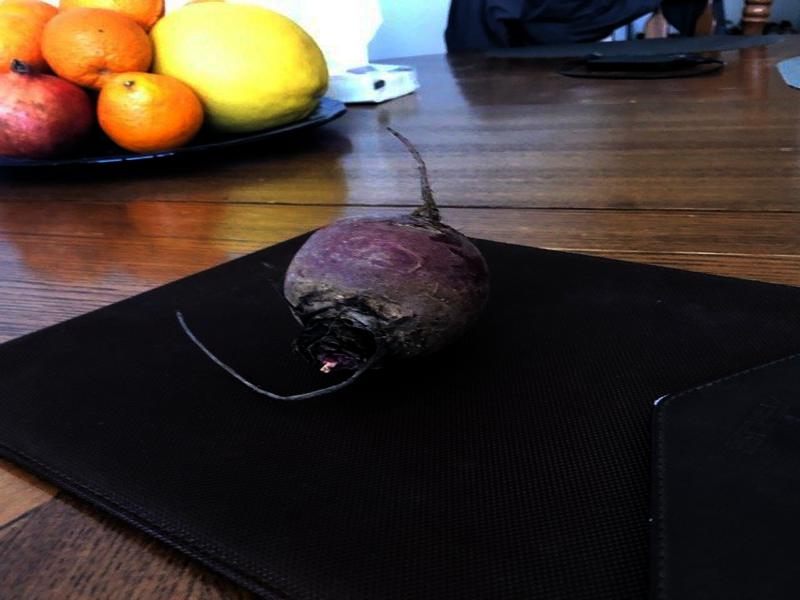Beet: (175, 126, 490, 400)
